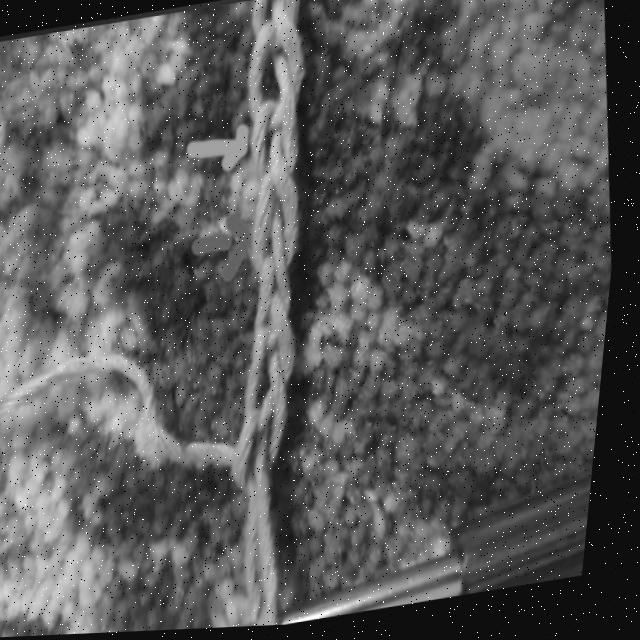ch: (255, 102, 302, 270), (248, 28, 299, 176), (251, 335, 291, 466), (261, 257, 301, 387), (258, 181, 295, 321), (271, 0, 301, 96)
